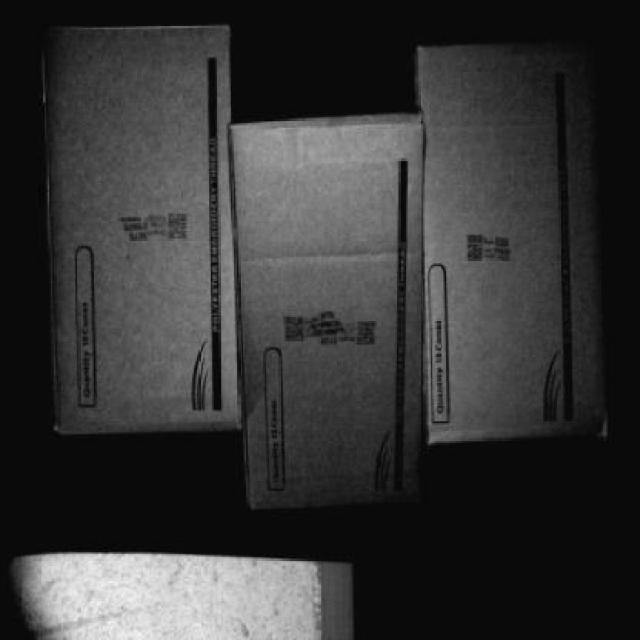cardboxes: (46, 23, 240, 428), (424, 45, 602, 449), (233, 132, 422, 502)
